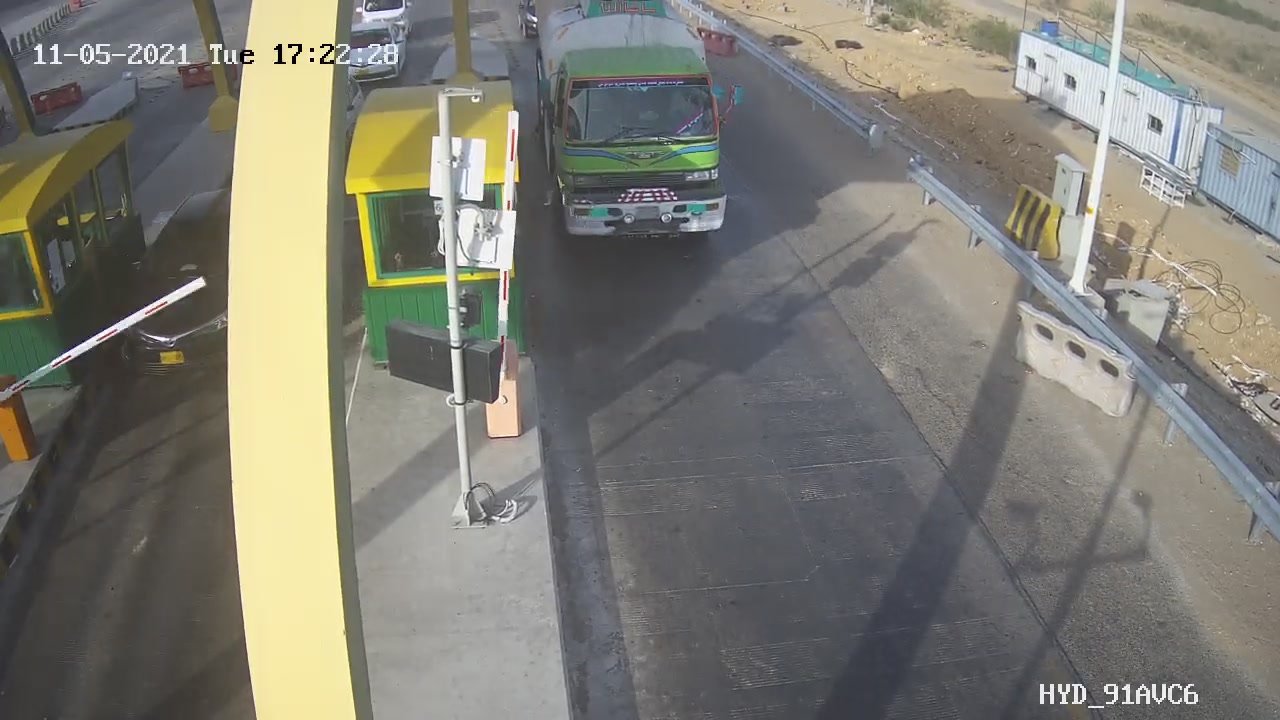F6: (526, 3, 752, 262)
